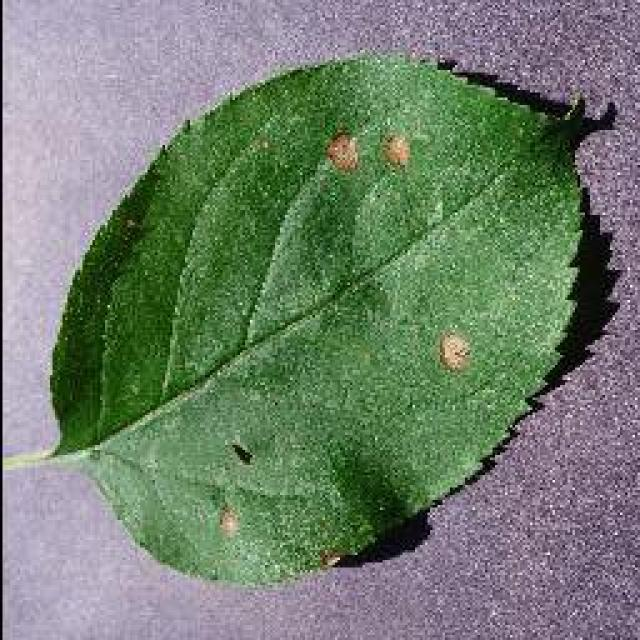apple black rot: (40, 48, 615, 588)
